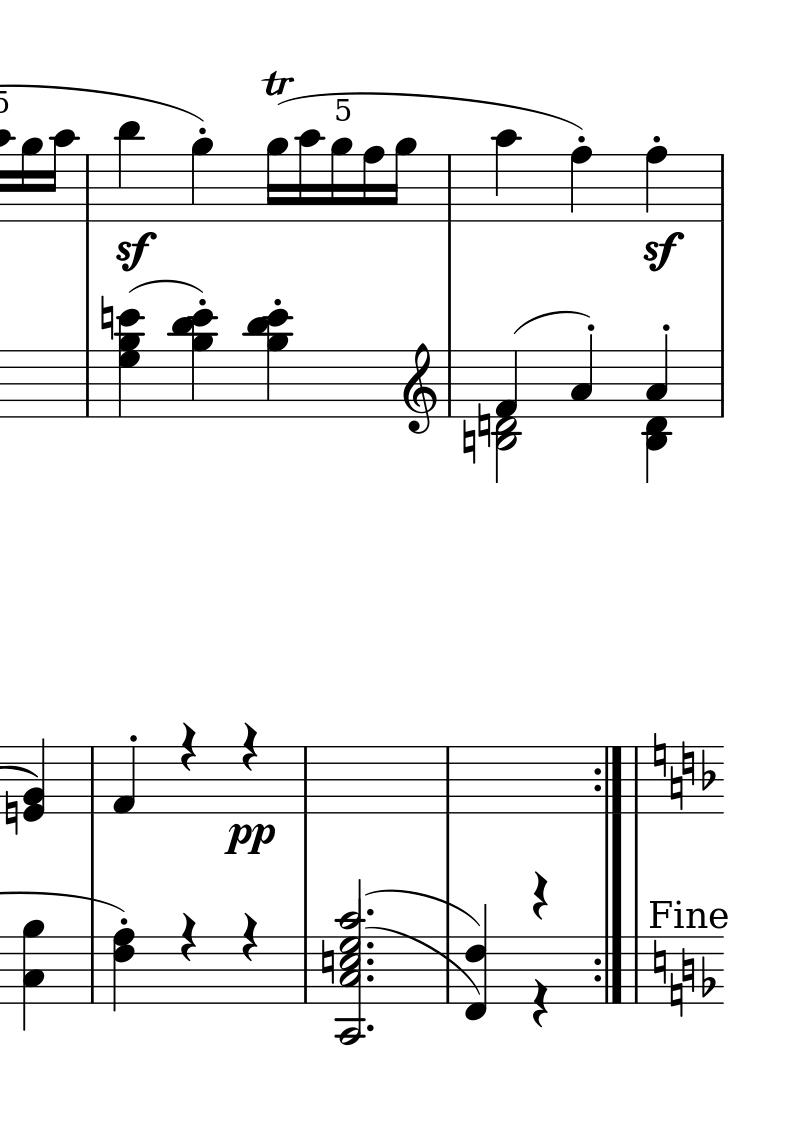16_10: (45, 127, 79, 223), (296, 127, 323, 223)
16_8: (360, 145, 385, 224)
16_9: (386, 136, 417, 225), (19, 136, 43, 222), (265, 136, 288, 224), (329, 137, 352, 223)
2_5th: (335, 875, 365, 1049)
4_-1_6: (464, 904, 490, 1022)
4_0_2: (22, 738, 47, 823)
4_1: (111, 744, 137, 817)
4_10: (492, 128, 521, 223)
4_11: (114, 118, 143, 222)
4_3: (569, 334, 594, 418), (646, 334, 668, 415)
4_3_9: (21, 919, 44, 1035)
4_6_8: (111, 927, 137, 1014)
4_8: (568, 145, 593, 224), (643, 144, 667, 223)
4_9: (188, 136, 214, 223)
4_th: (242, 309, 295, 420), (166, 307, 217, 421), (112, 307, 145, 418)
5: (333, 98, 352, 124)
Flat: (700, 954, 715, 998), (701, 747, 715, 792)
Gclef: (402, 341, 438, 435)
Natural: (2, 789, 20, 836), (98, 293, 115, 341), (476, 401, 492, 451), (462, 415, 477, 466), (319, 938, 335, 985), (653, 731, 667, 778), (682, 738, 696, 785), (669, 766, 683, 813), (652, 938, 666, 985), (669, 973, 683, 1020), (681, 947, 695, 994)
Rests4: (177, 911, 199, 963), (178, 720, 199, 773), (528, 976, 549, 1029), (239, 911, 260, 963), (239, 721, 260, 772), (531, 868, 550, 921)
RightRepeatSign: (591, 936, 625, 1004), (592, 746, 625, 813)
Single_barline: (626, 748, 644, 812), (441, 153, 458, 220), (296, 746, 313, 813), (439, 745, 456, 811), (84, 747, 101, 813), (714, 154, 730, 221), (441, 350, 457, 417), (439, 935, 455, 1002), (297, 936, 313, 1003), (628, 938, 644, 1002), (80, 154, 95, 220), (715, 351, 730, 417), (85, 935, 99, 1002), (81, 349, 94, 416)
Slur: (278, 90, 582, 133), (366, 925, 478, 996), (366, 884, 482, 930), (512, 309, 589, 336), (128, 278, 204, 294)
Trill: (260, 68, 294, 98)
dot: (364, 1022, 377, 1035), (364, 907, 376, 918), (364, 940, 376, 951), (365, 972, 376, 984), (365, 956, 376, 967)
pp: (223, 820, 277, 859)
sf: (114, 231, 156, 272), (641, 231, 683, 272)
